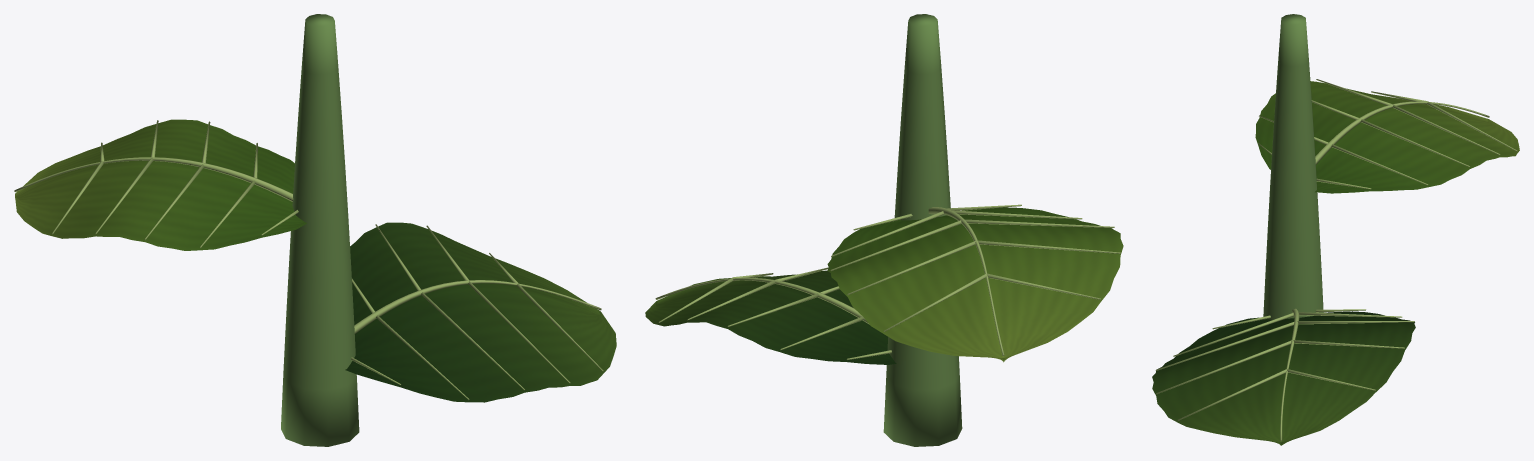
Rendered from sunflower-01.glb.
3 renders of one model, left to right at view 1: azimuth 30°, elevation 25°; view 2: azimuth 150°, elevation 25°; view 3: azimuth 270°, elevation 25°, orthographic. The views are drawn at different scales.
Parts seen in each view (by area): view 1: sunflower_stage_01_leaf_veins, sunflower_stage_01_young_leaf, sunflower_stage_01_stem_fibres, sunflower_stage_01_raised_midveins; view 2: sunflower_stage_01_young_leaf, sunflower_stage_01_stem_fibres, sunflower_stage_01_leaf_veins, sunflower_stage_01_raised_midveins; view 3: sunflower_stage_01_leaf_veins, sunflower_stage_01_young_leaf, sunflower_stage_01_stem_fibres, sunflower_stage_01_raised_midveins.
Boxes of the visible parts, <box> form: sunflower_stage_01_leaf_veins: <box>345,222,616,402</box>; sunflower_stage_01_young_leaf: <box>15,119,306,250</box>; sunflower_stage_01_stem_fibres: <box>281,14,359,446</box>; sunflower_stage_01_raised_midveins: <box>14,120,603,399</box>; sunflower_stage_01_young_leaf: <box>827,207,1123,362</box>; sunflower_stage_01_stem_fibres: <box>883,14,962,446</box>; sunflower_stage_01_leaf_veins: <box>645,270,896,364</box>; sunflower_stage_01_raised_midveins: <box>655,204,1120,359</box>; sunflower_stage_01_leaf_veins: <box>1152,311,1415,445</box>; sunflower_stage_01_young_leaf: <box>1255,81,1519,193</box>; sunflower_stage_01_stem_fibres: <box>1263,14,1323,319</box>; sunflower_stage_01_raised_midveins: <box>1155,79,1517,441</box>.
Size of the model in its own units: 0.0583 by 0.0459 by 0.0428.
4 materials, 2 textured.
